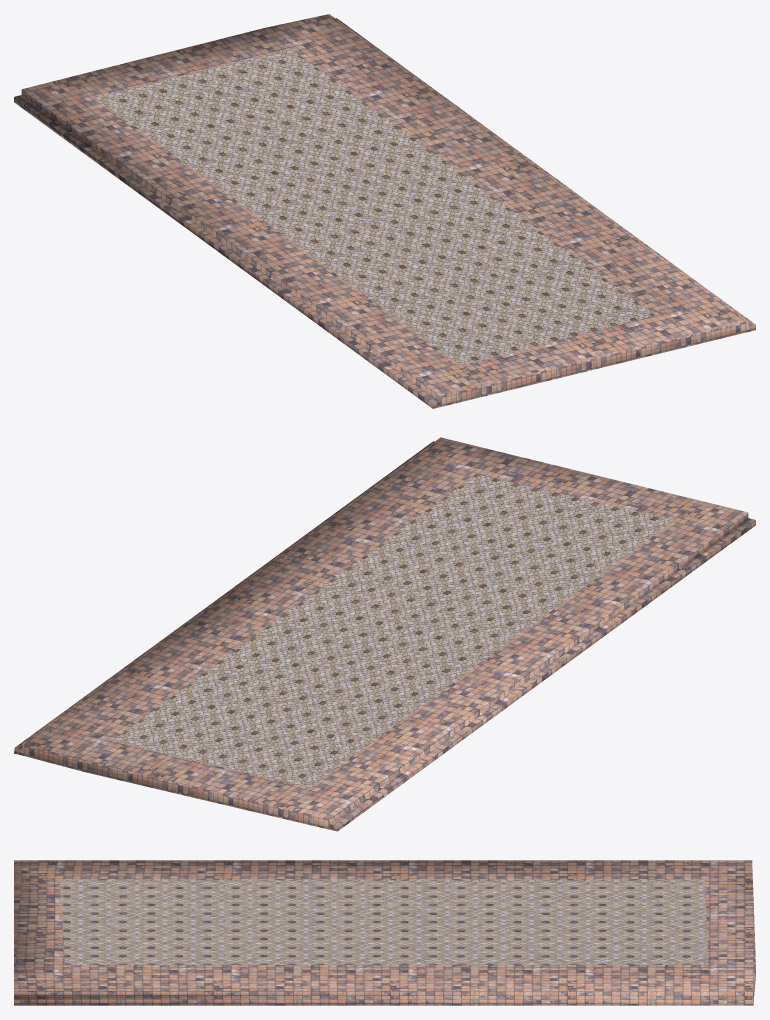
The picture shows the model from 3 angles, top to bottom: view 1: azimuth 30°, elevation 25°; view 2: azimuth 150°, elevation 25°; view 3: azimuth 270°, elevation 25°; orthographic projection. The views are drawn at different scales.
Visible parts, largest first — view 1: base1; view 2: base1; view 3: base1.
Part boxes in pixels (bbox=[...]): base1: bbox=[14, 14, 755, 408]; base1: bbox=[14, 437, 755, 831]; base1: bbox=[14, 860, 755, 1005].
Size of the model in its own units: 4.21 by 0.1375 by 9.5.
Materials: 2 (2 with a texture image).
